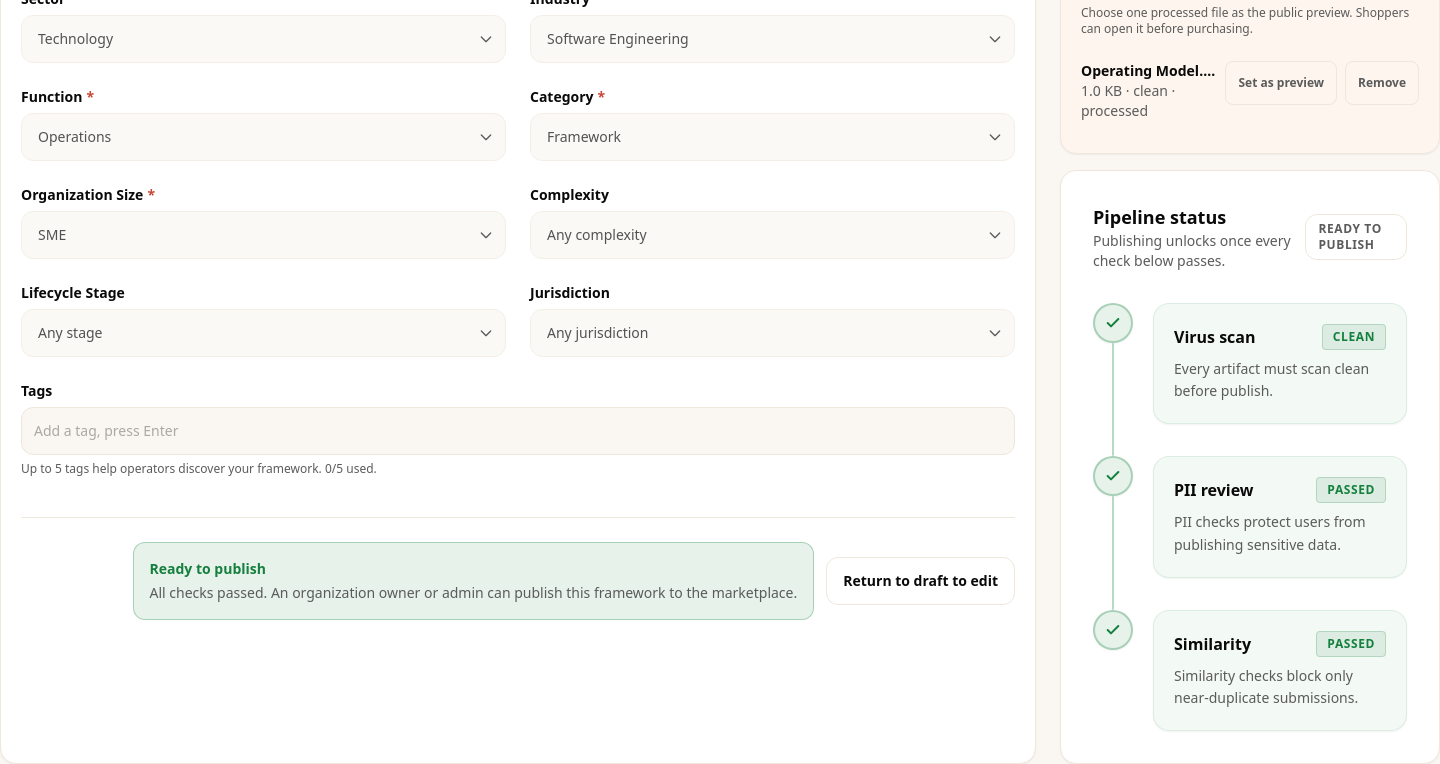
Test case: FrameworkEditor › returns a passed framework to draft through the revise action
(page scrolled)
Click the button "Return to draft to edit".
click(921, 580)  # box [826,556,1015,604]
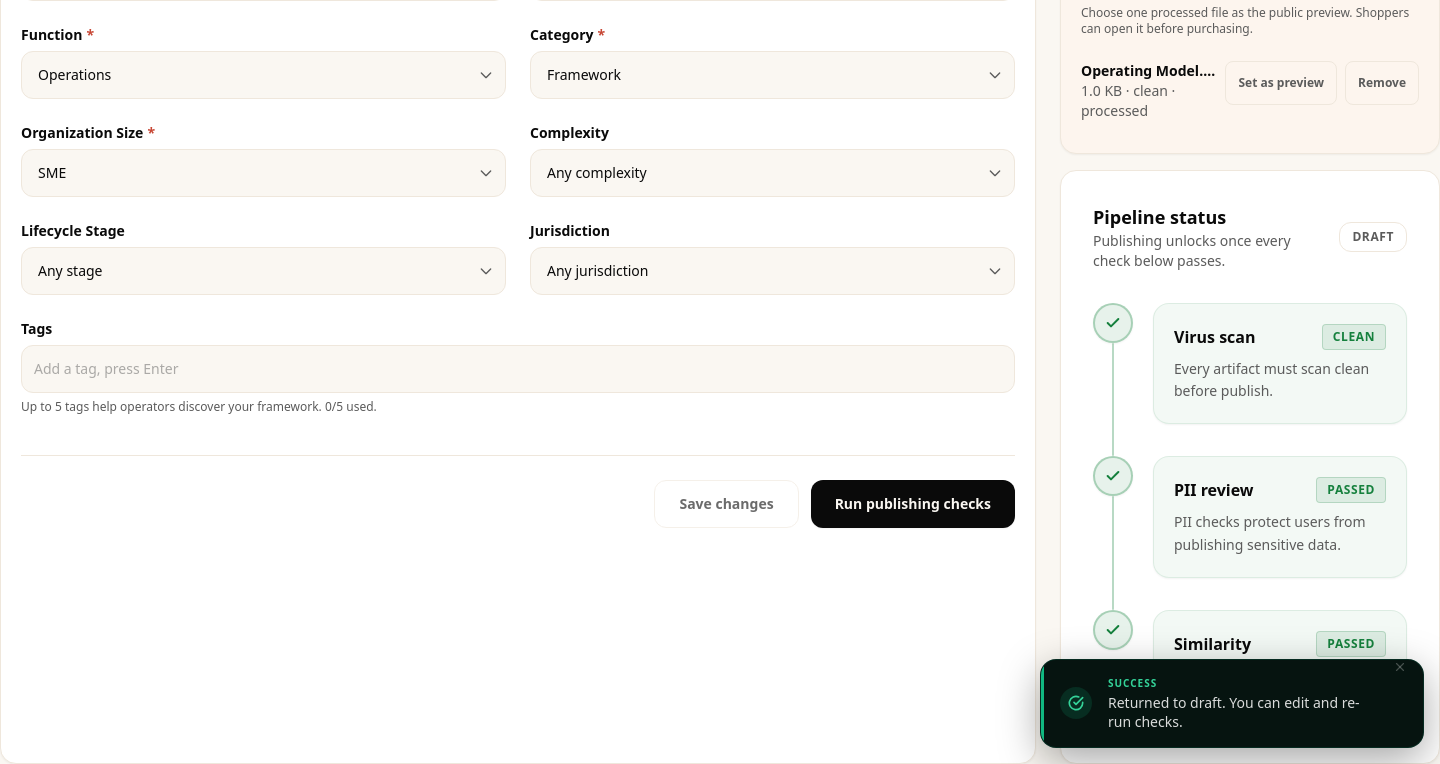
Now the button "Save changes" is shown, box [654,480,799,528]
